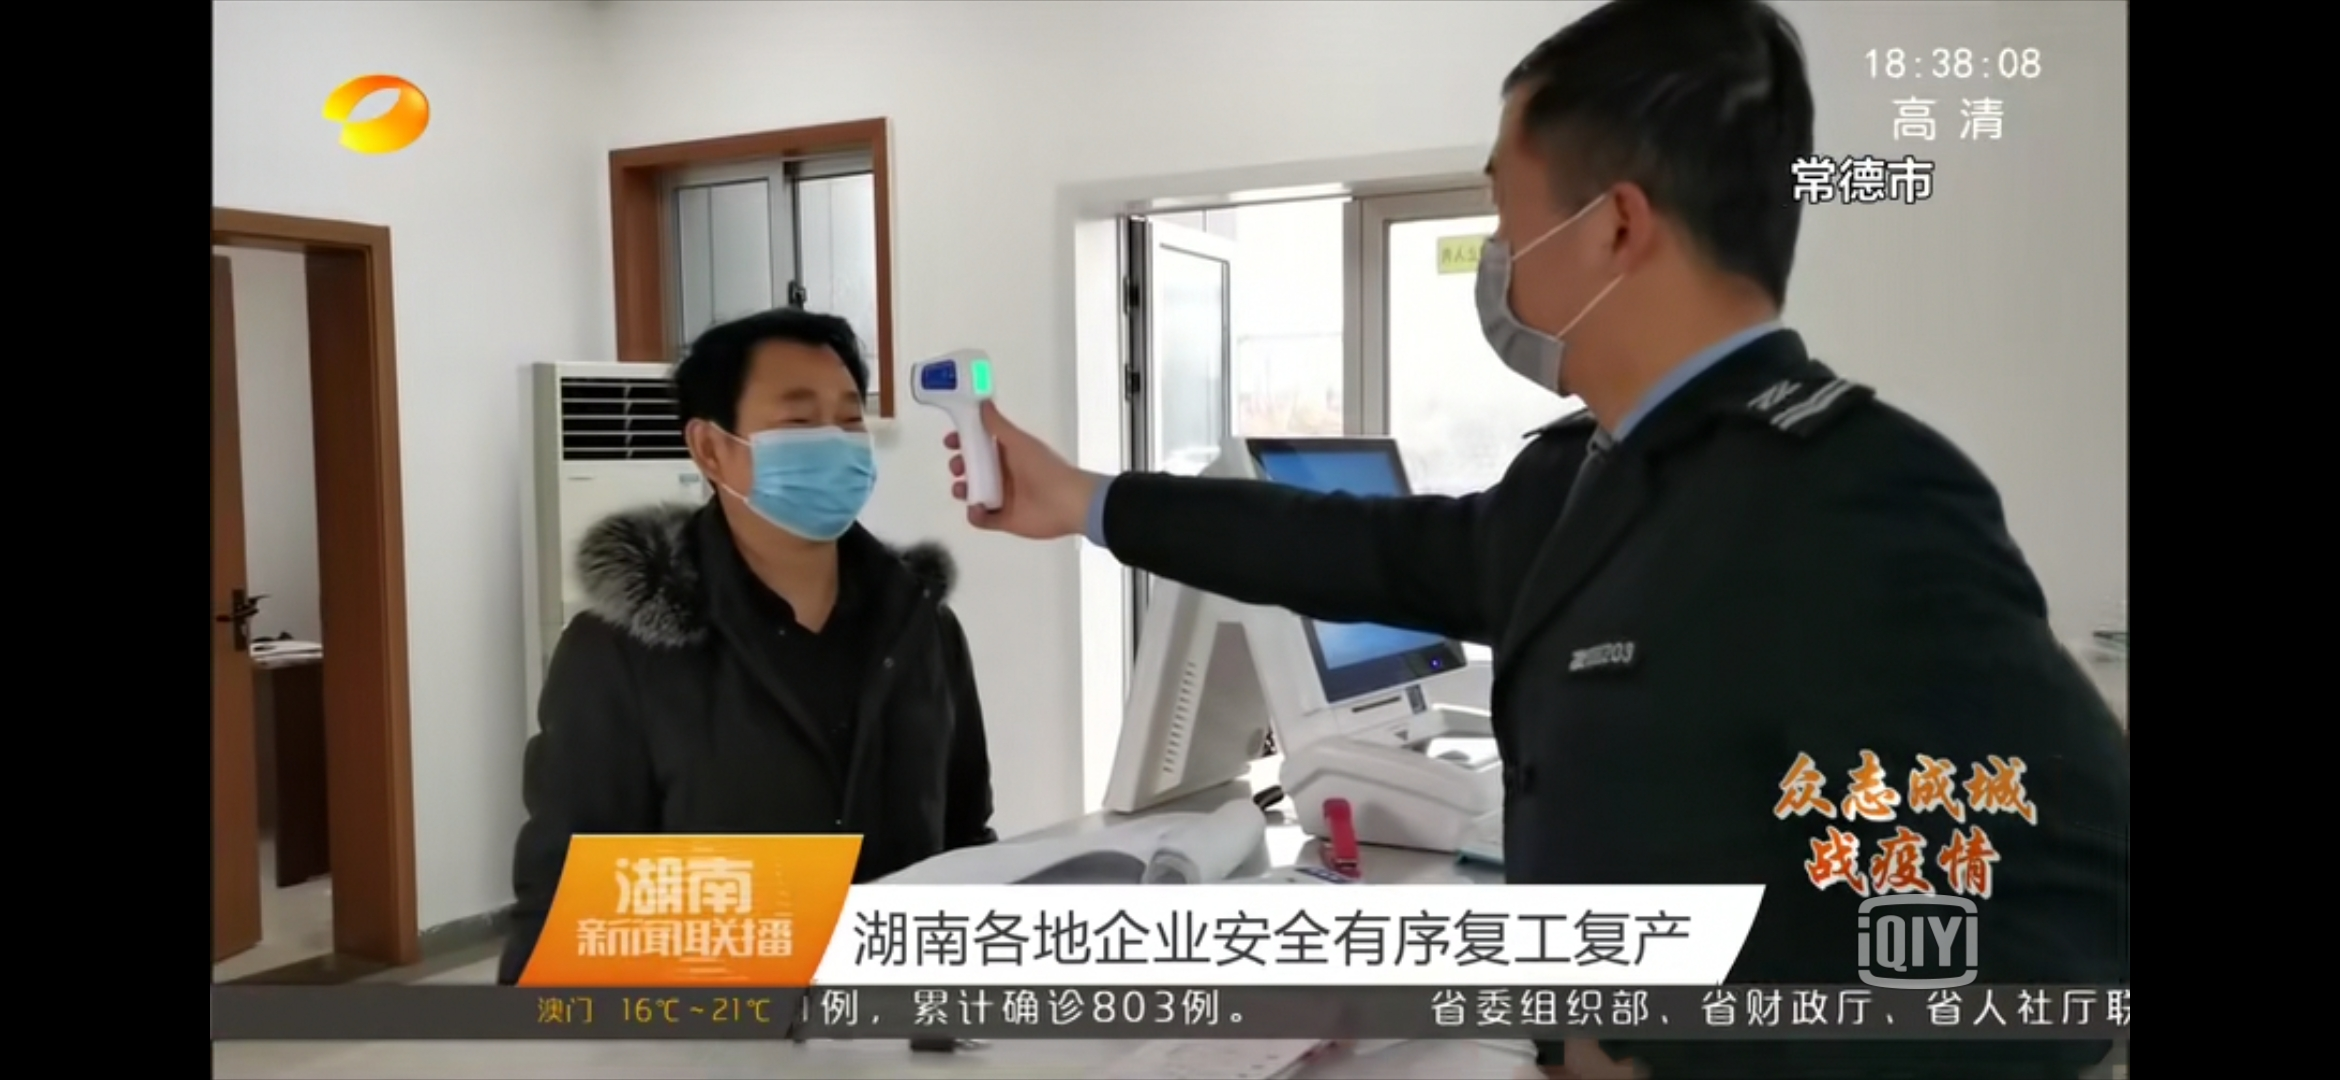correctlyWear: (1468, 124, 1657, 401), (688, 371, 882, 541)
